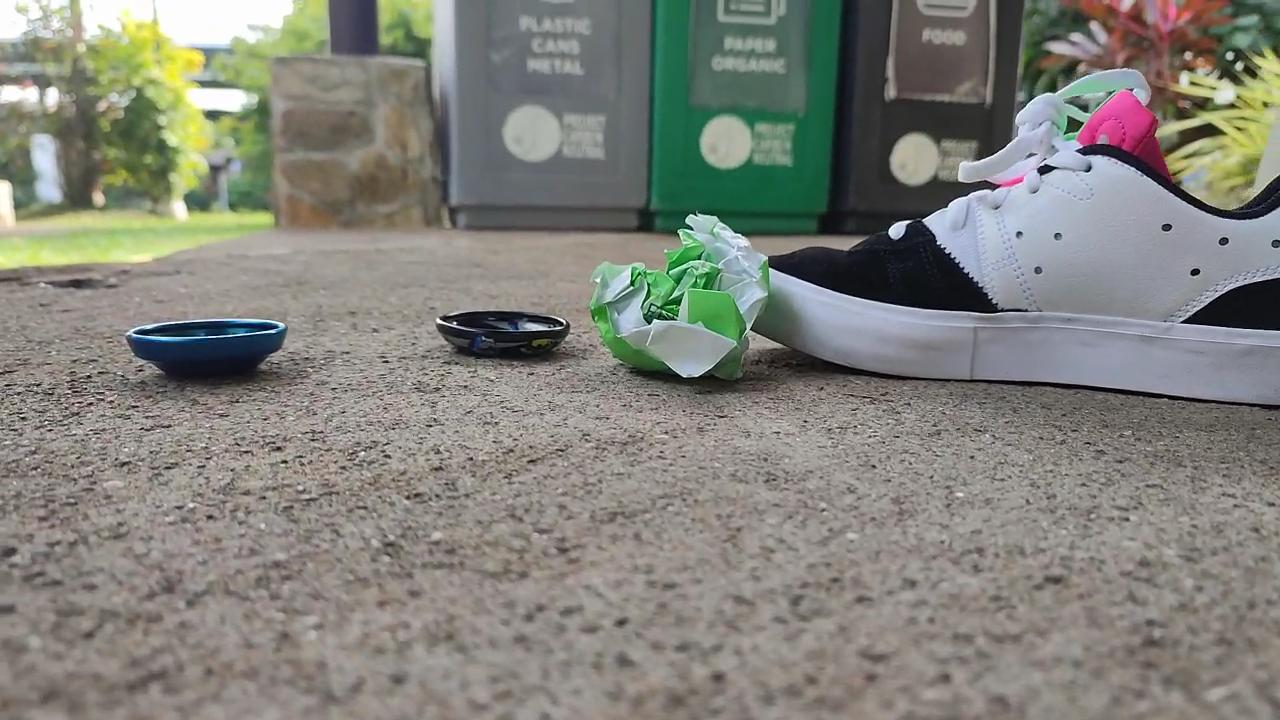Paper: (581, 199, 774, 406)
